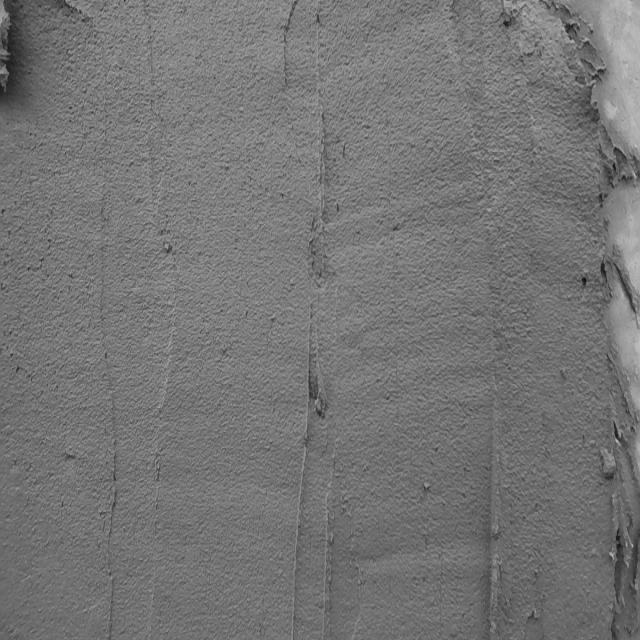trowels marks: (290, 284, 316, 640), (102, 199, 122, 640), (479, 334, 505, 640), (312, 20, 331, 307)
